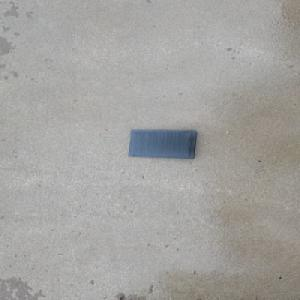PlasticPart: (127, 129, 199, 159)
